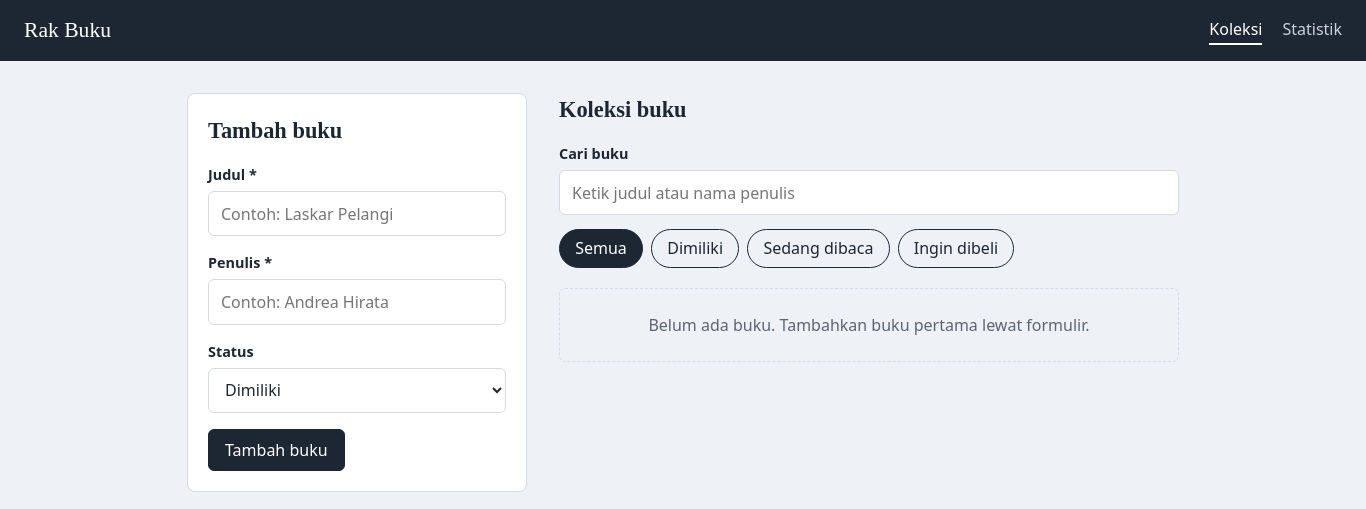
Aplikasi Rak Buku (integrasi) › menambah buku, menampilkannya di daftar, dan menyimpannya ke localStorage
Type "Laskar Pelangi" into the field labelled "Judul *".
click(357, 214); type("Laskar Pelangi")  # box [208,191,506,236]
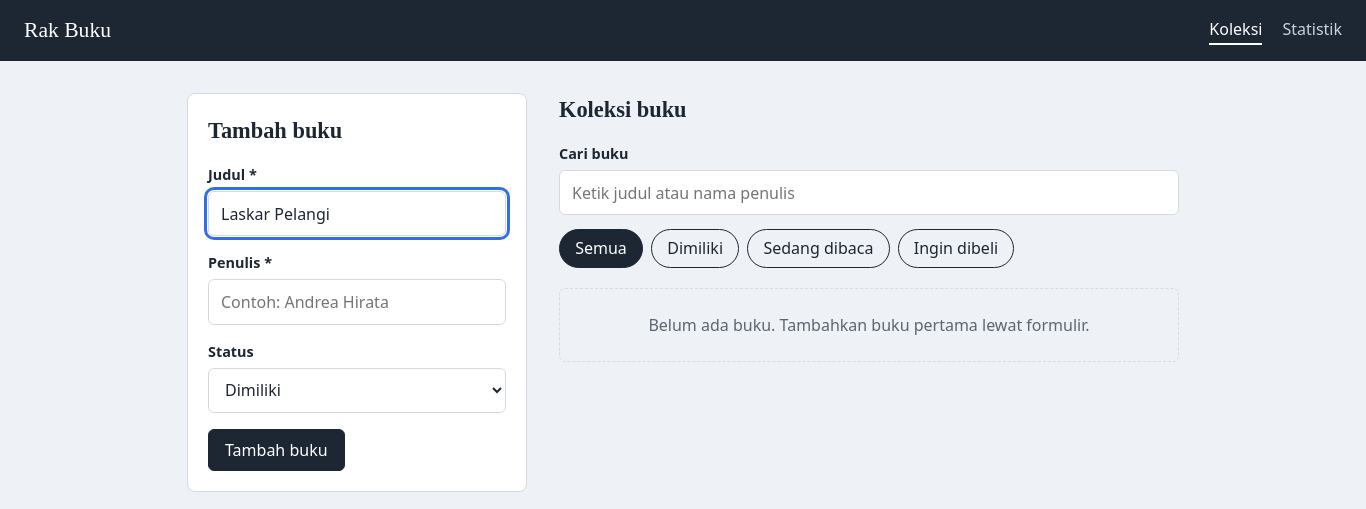
Type "Andrea Hirata" into the field labelled "Penulis *".
click(357, 302); type("Andrea Hirata")  # box [208,279,506,325]
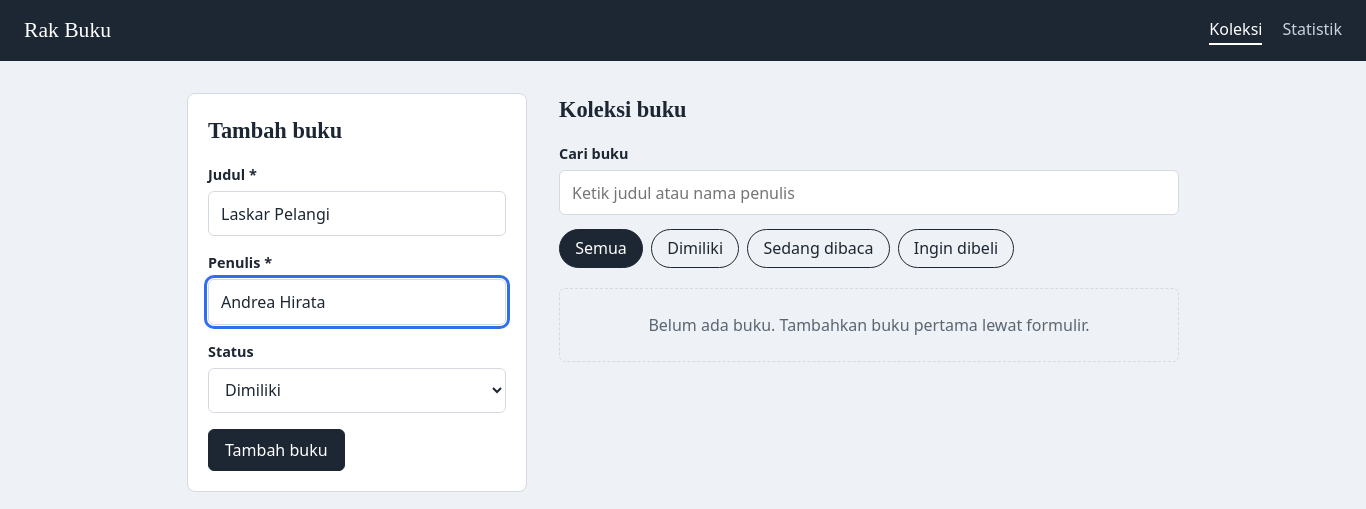
Select "Sedang dibaca" in the dropdown labelled "Status" at (357, 390), box [208,368,506,413]
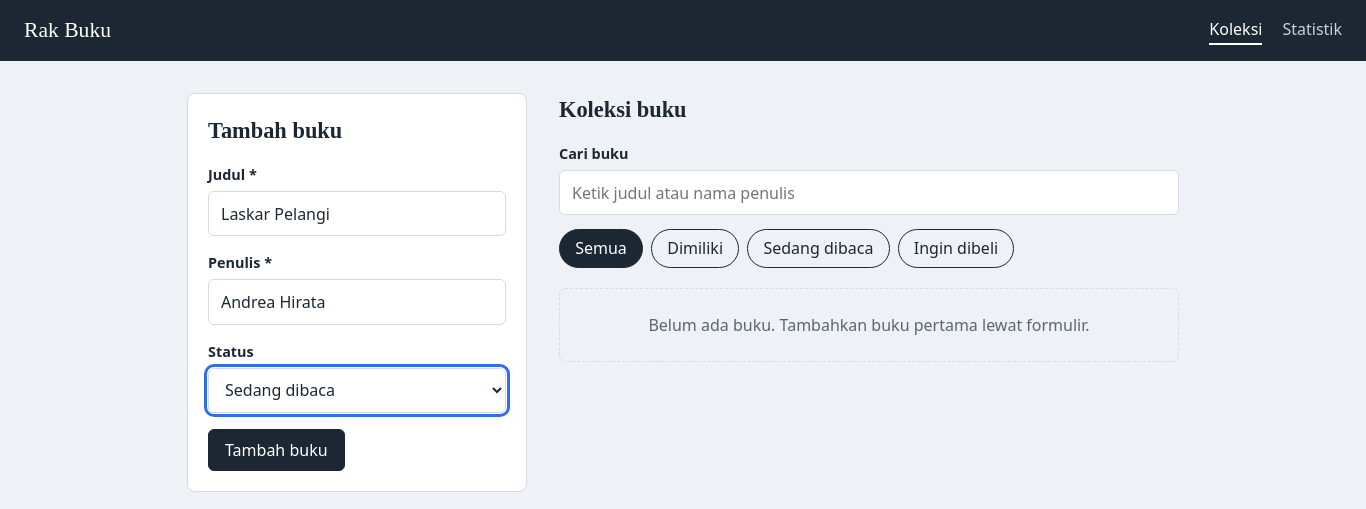
Click the button "Tambah buku".
click(276, 450)  # box [208,429,345,471]
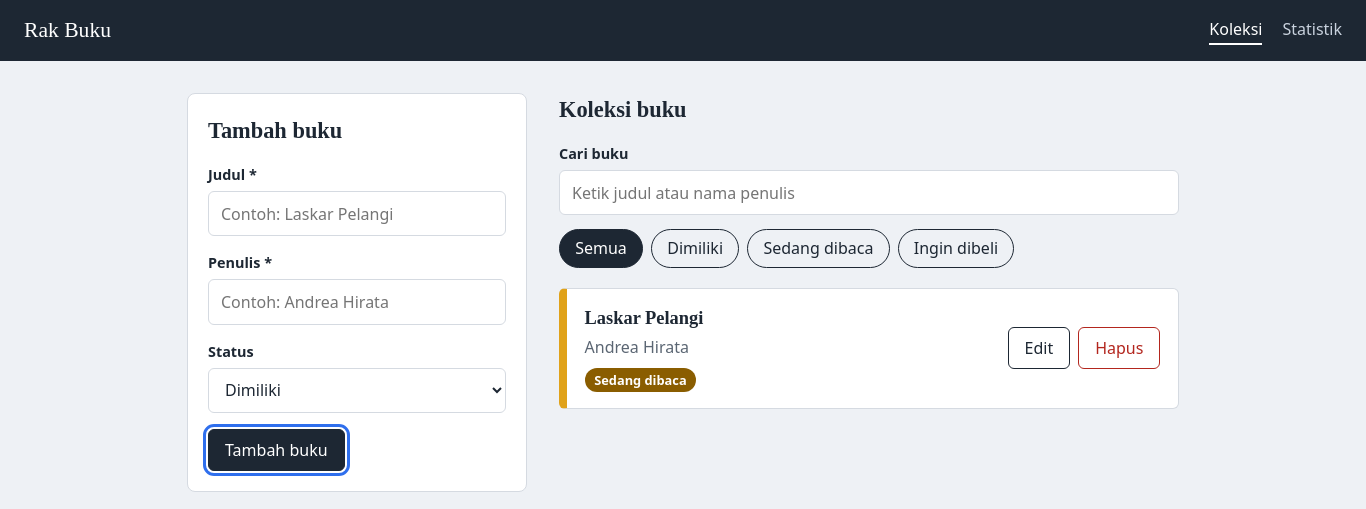
Now the heading "Laskar Pelangi" is shown, box [585,304,703,332]
